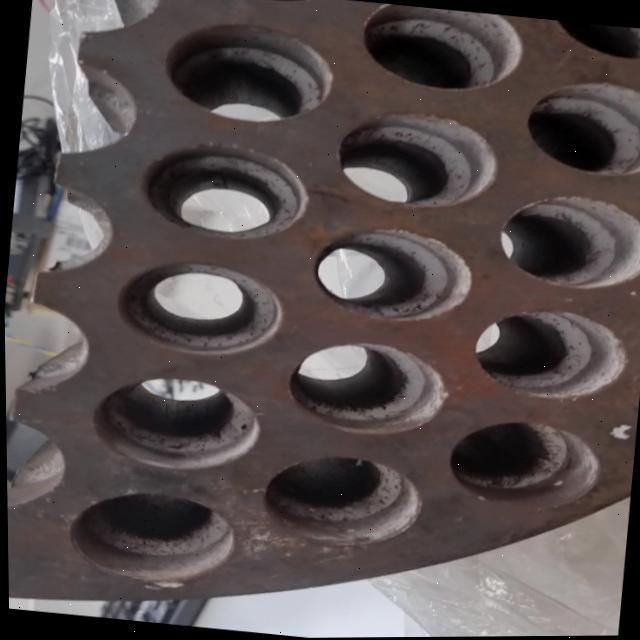Hole: (158, 14, 339, 130), (107, 253, 288, 363), (85, 368, 264, 478), (135, 136, 313, 246), (61, 483, 236, 594), (331, 105, 503, 216), (280, 334, 453, 442), (307, 220, 477, 329), (256, 448, 425, 553), (467, 302, 630, 407), (357, 0, 527, 97), (492, 187, 640, 296), (441, 414, 602, 512), (520, 73, 640, 181), (545, 18, 640, 64), (178, 0, 345, 8)
